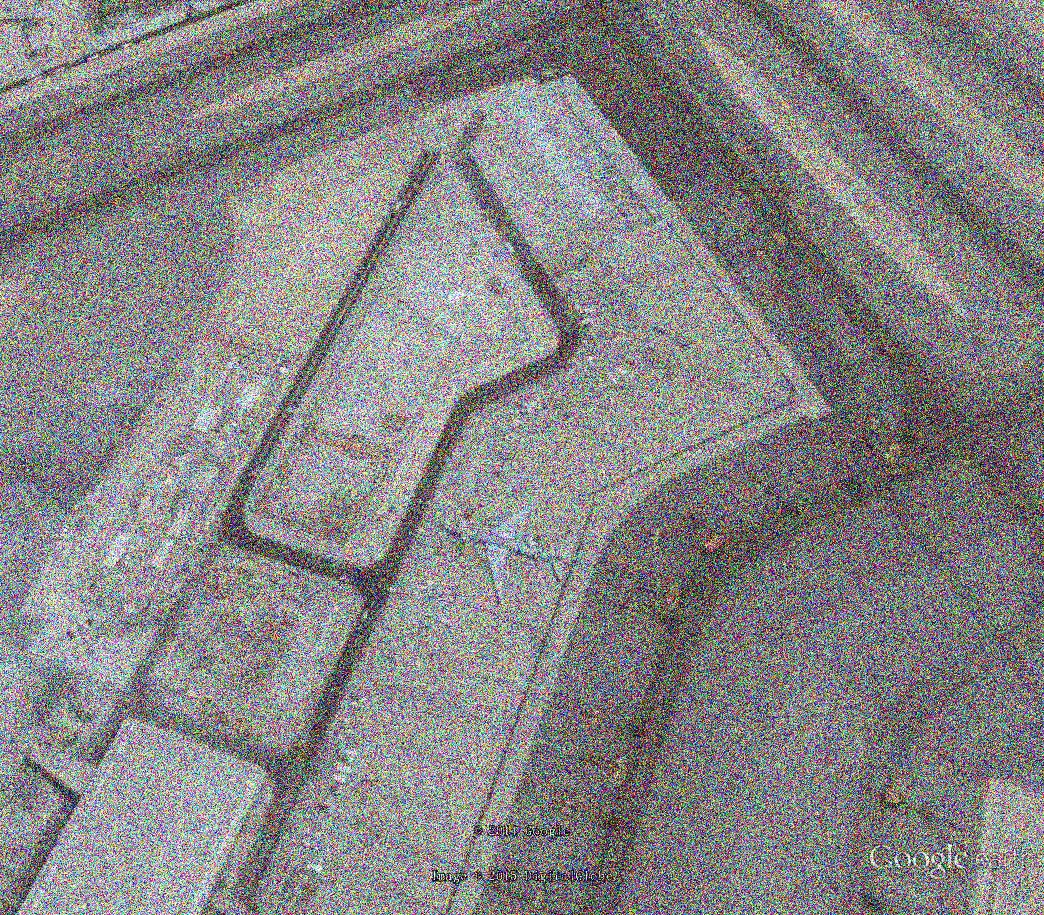aircraft: (438, 498, 583, 612)
